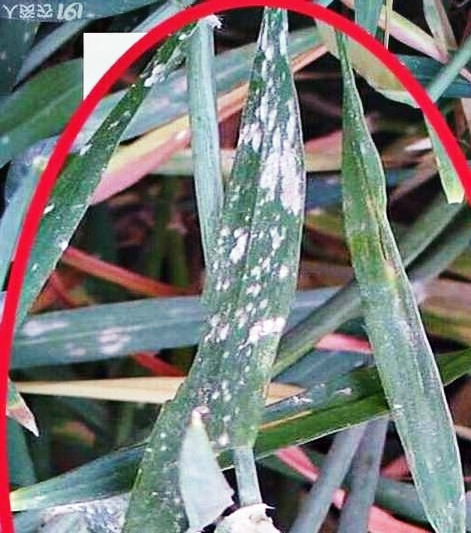Powdery Mildew: (194, 48, 324, 383)
